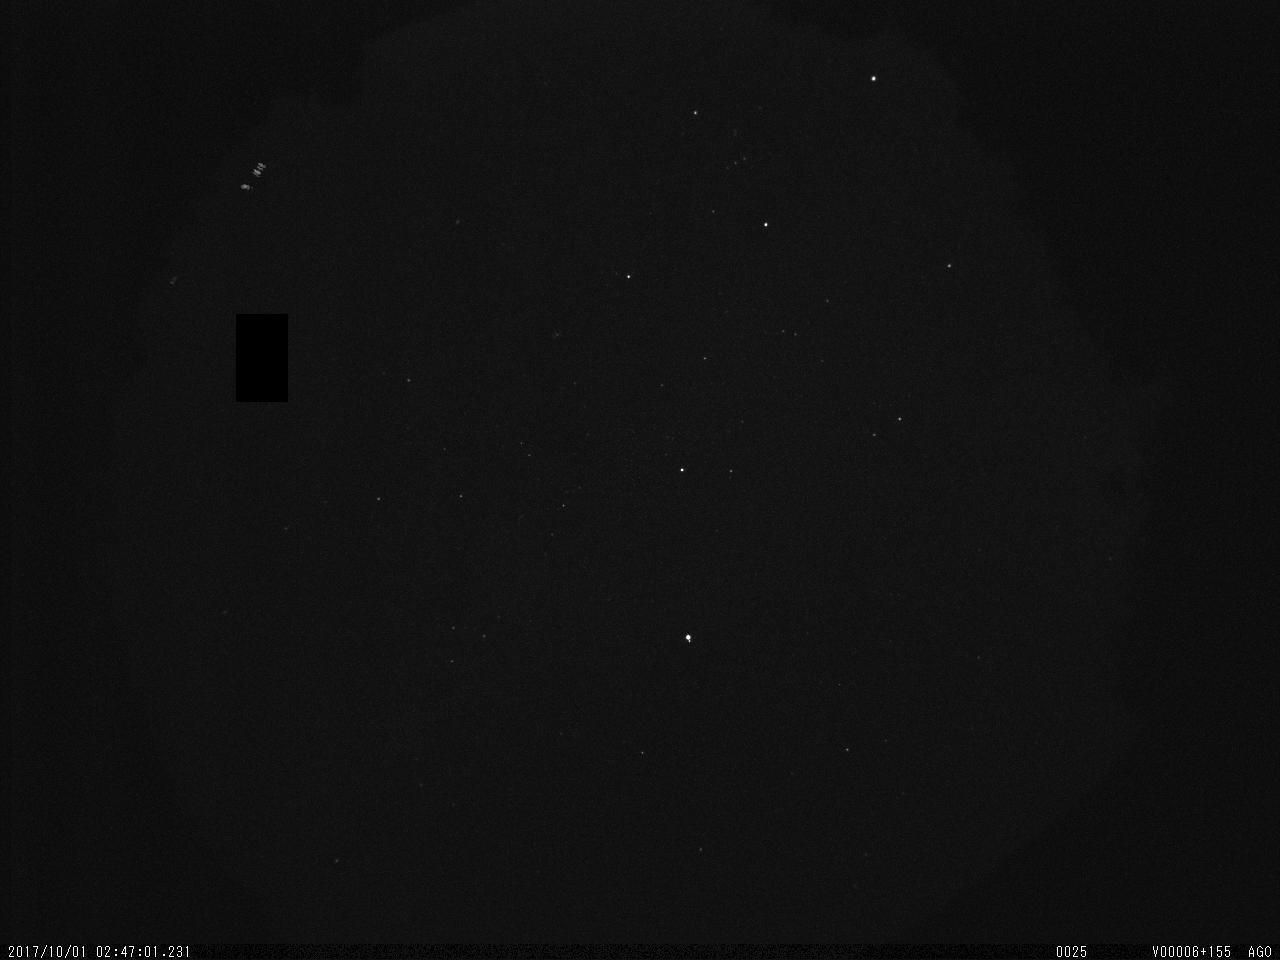TLE: (234, 153, 275, 202)
